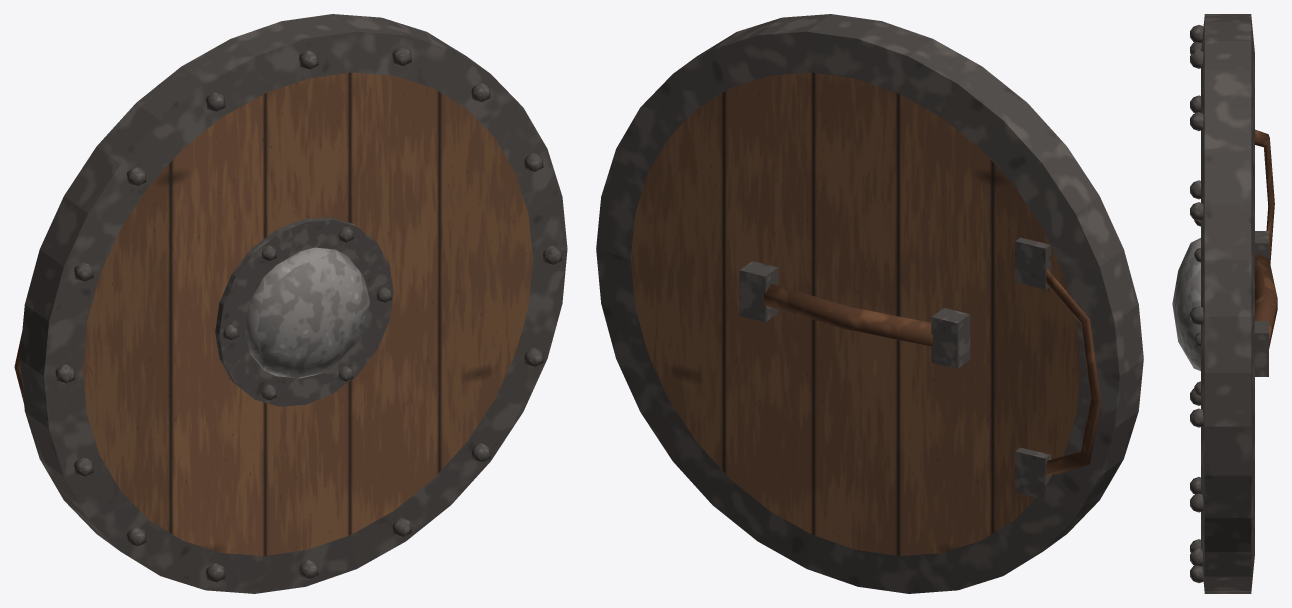
File: round_watch_shield.glb
3 views of the same model, side by side, from view 1: azimuth 30°, elevation 25°; view 2: azimuth 150°, elevation 25°; view 3: azimuth 270°, elevation 25° (orthographic). The views are drawn at different scales.
Visible parts, largest first — view 1: round_watch_shield_wooden_shield_disk, round_watch_shield_metal_rim, round_watch_shield_central_boss; view 2: round_watch_shield_wooden_shield_disk, round_watch_shield_metal_rim, round_watch_shield_rear_grip_and_straps; view 3: round_watch_shield_metal_rim, round_watch_shield_rear_grip_and_straps, round_watch_shield_central_boss.
Part boxes in pixels (x1,y1,x2,y2): round_watch_shield_wooden_shield_disk: (82,72,532,555); round_watch_shield_metal_rim: (20,14,567,593); round_watch_shield_central_boss: (215,217,393,406); round_watch_shield_wooden_shield_disk: (630,72,1080,555); round_watch_shield_metal_rim: (596,14,1143,593); round_watch_shield_rear_grip_and_straps: (739,237,1101,499); round_watch_shield_metal_rim: (1190,14,1254,593); round_watch_shield_rear_grip_and_straps: (1255,129,1277,376); round_watch_shield_central_boss: (1172,219,1200,396).
Size of the model in its own units: 0.6 by 0.6 by 0.1088.
Materials: 4 (4 with a texture image).
